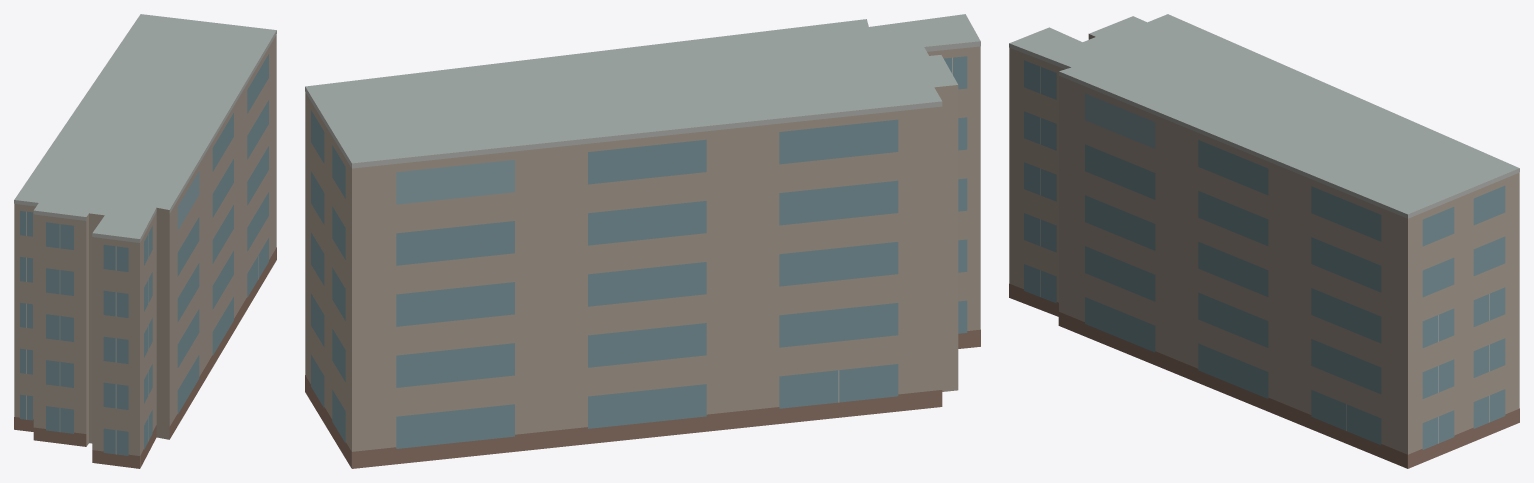
The model's file is survey-upis-32569412.glb.
3 renders of one model, left to right at view 1: azimuth 30°, elevation 25°; view 2: azimuth 150°, elevation 25°; view 3: azimuth 270°, elevation 25°, orthographic. The views are drawn at different scales.
Parts seen in each view (by area): view 1: survey-upis-32569412.tmp; view 2: survey-upis-32569412.tmp; view 3: survey-upis-32569412.tmp.
Boxes of the visible parts, x1=… form: survey-upis-32569412.tmp: x1=14, y1=14, x2=276, y2=468; survey-upis-32569412.tmp: x1=305, y1=14, x2=980, y2=468; survey-upis-32569412.tmp: x1=1009, y1=14, x2=1519, y2=468.
Bounding box in the file's own units: 24.51 × 14.5 × 26.38.
